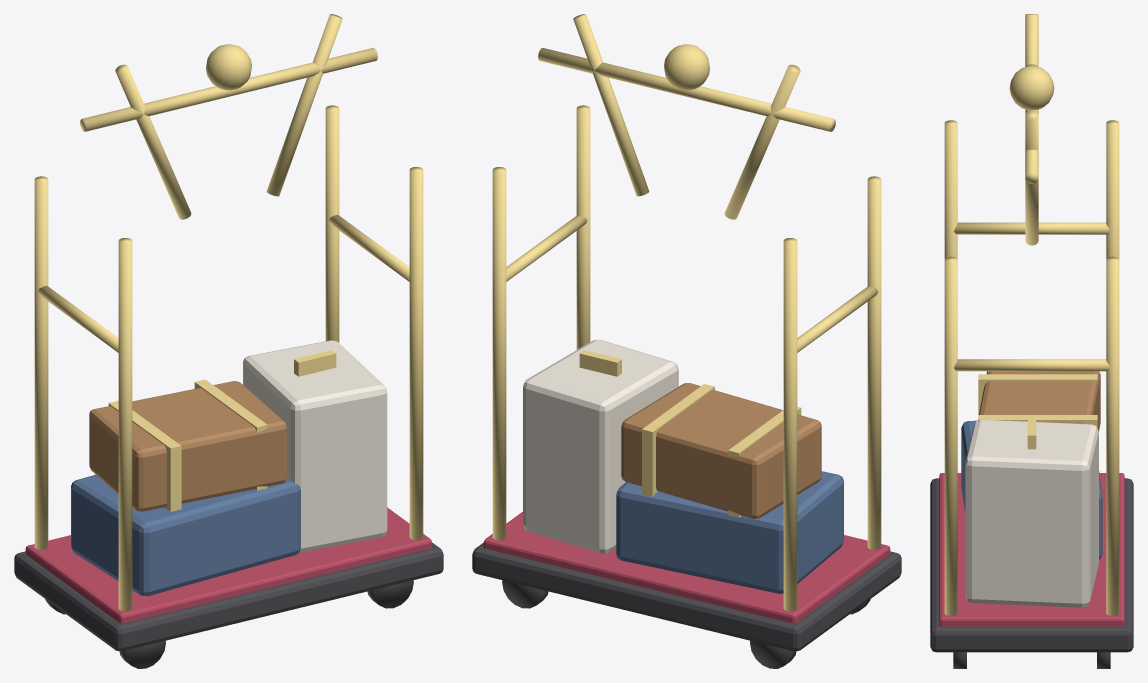
The model's file is hotel_luggage_cart.glb.
3 renders of one model, left to right at view 1: azimuth 30°, elevation 25°; view 2: azimuth 150°, elevation 25°; view 3: azimuth 270°, elevation 25°, orthographic. The views are drawn at different scales.
Parts seen in each view (by area): view 1: BaseBumper; view 2: BaseBumper; view 3: BaseBumper.
Boxes of the visible parts, left/top/right/bottom form: BaseBumper: left=14, top=14, right=443, bottom=668; BaseBumper: left=472, top=14, right=901, bottom=668; BaseBumper: left=930, top=14, right=1133, bottom=668.
Bounding box in the file's own units: 1.22 × 2.02 × 0.68.
